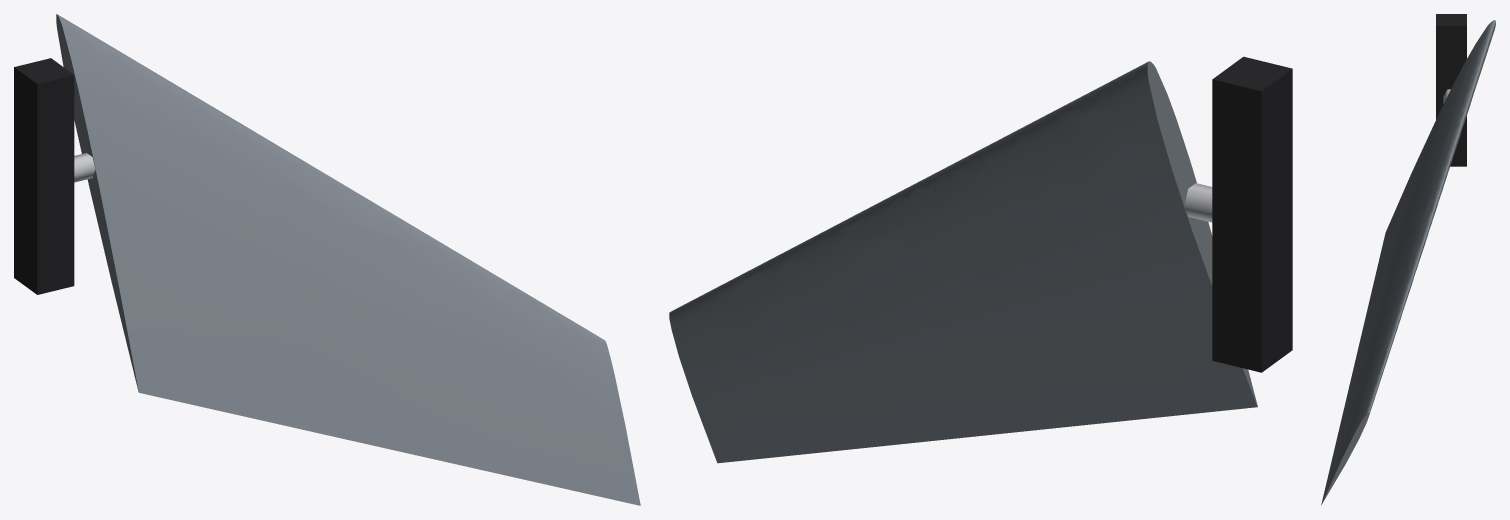
File: jet09_control_surface_canard_s_defl_neg.glb
The picture shows the model from 3 angles, left to right: view 1: azimuth 30°, elevation 25°; view 2: azimuth 150°, elevation 25°; view 3: azimuth 270°, elevation 25°; orthographic projection. The views are drawn at different scales.
Parts seen in each view (by area): view 1: surface, root_housing; view 2: surface, root_housing, pivot_shaft; view 3: surface, root_housing.
Part boxes in pixels (x1,y1,x2,y2): surface: (56, 14, 640, 505); root_housing: (14, 58, 74, 294); surface: (669, 61, 1257, 463); root_housing: (1212, 56, 1292, 372); pivot_shaft: (1184, 183, 1212, 222); surface: (1321, 20, 1495, 505); root_housing: (1436, 14, 1466, 166).
Size of the model in its own units: 1.23 by 1.15 by 0.5409.
3 materials, 1 textured.
